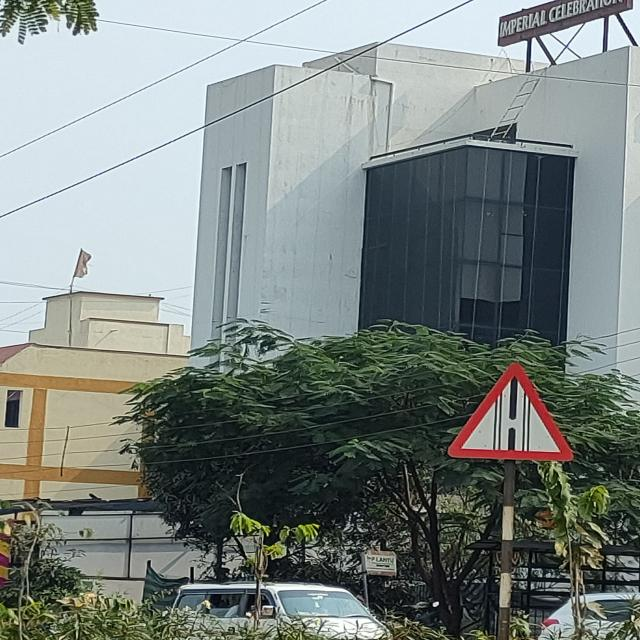GAP_IN_MEDIAN: (443, 364, 570, 462)
